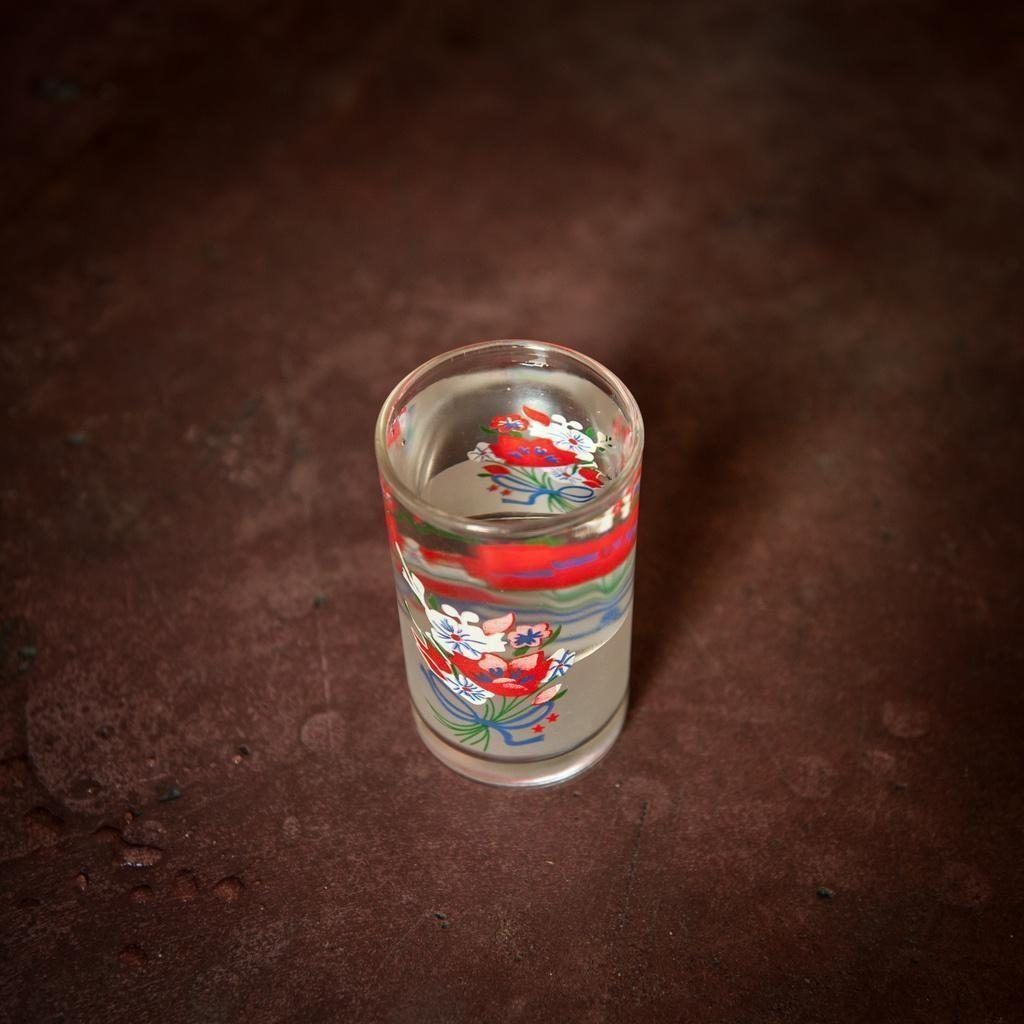glass-normal: (369, 339, 647, 786)
